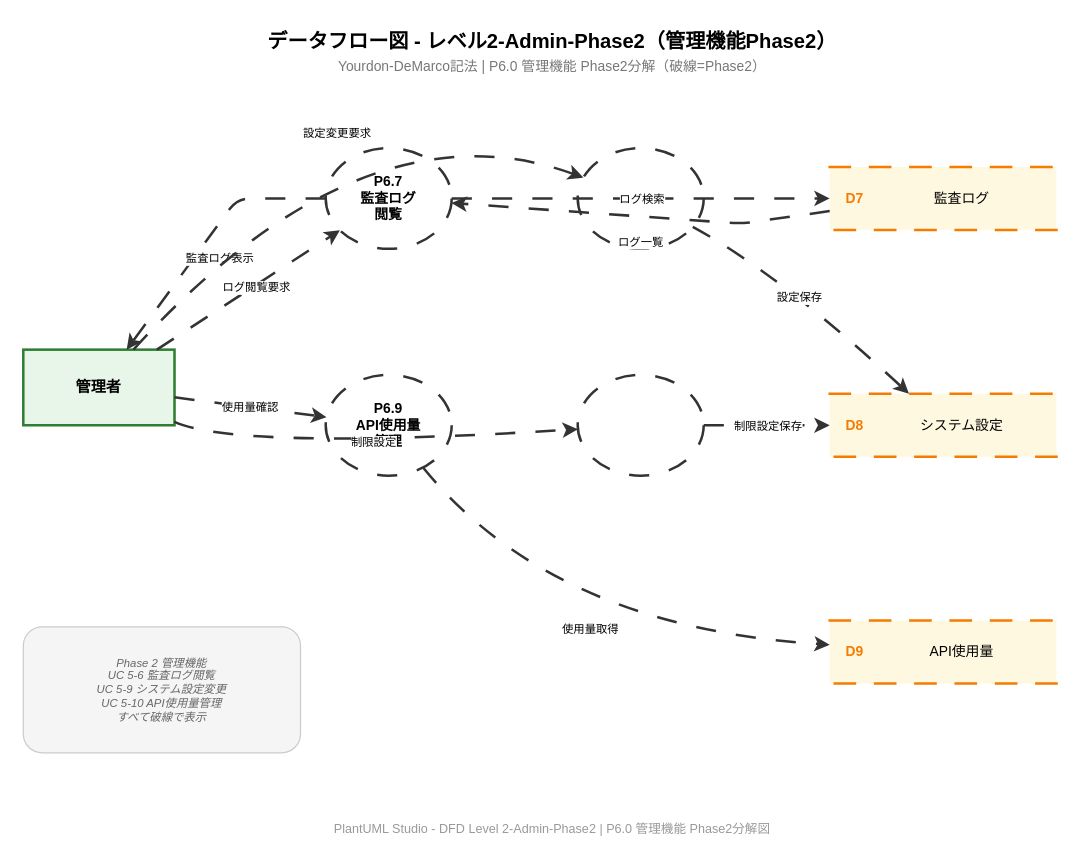
The diagram is 1079 pixels wide and 862 high, and some of its shapes have lost their labels. The centre of each missing label's shape, as x and y in pixels:
P6.10 レート 制限設定: pixel 640 424
P6.8 システム 設定: pixel 640 197
